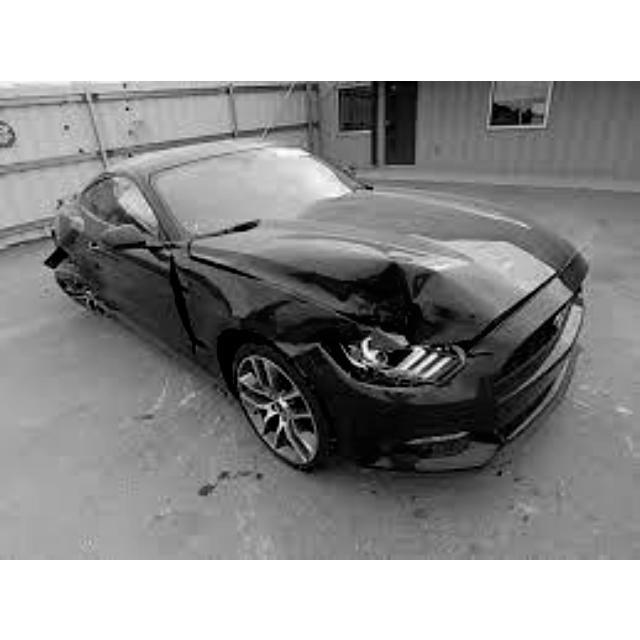Headlight-damage: (327, 312, 470, 396)
bonnet-dent: (221, 219, 522, 332)
doorouter-dent: (90, 231, 193, 339)
